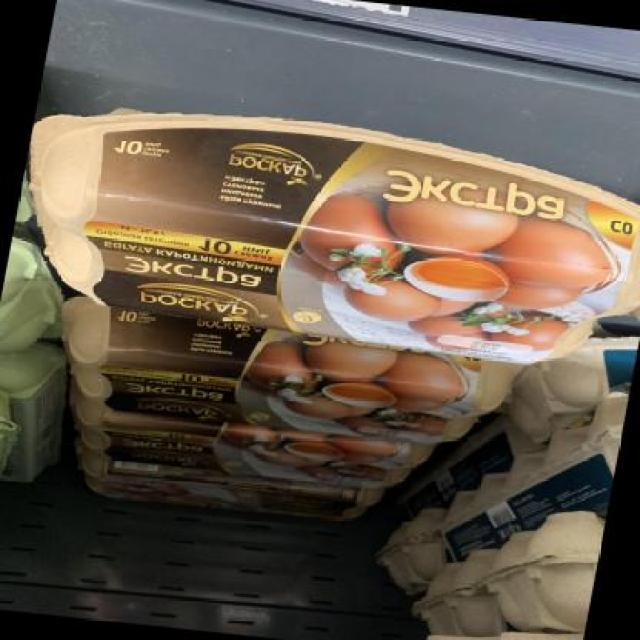egg: (1, 86, 640, 379), (46, 302, 519, 455), (66, 404, 434, 493)
